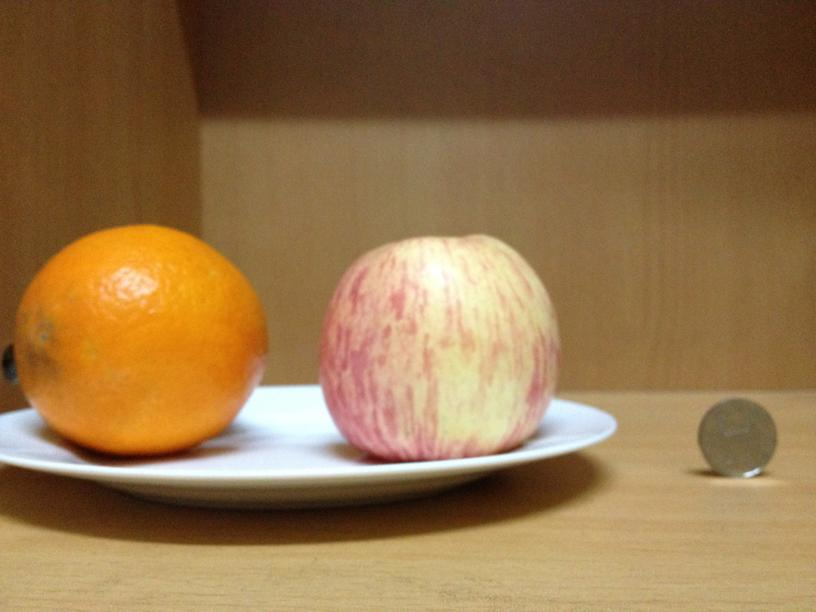apple: (322, 231, 560, 461)
coin: (694, 393, 777, 478)
orange: (12, 224, 271, 457)
